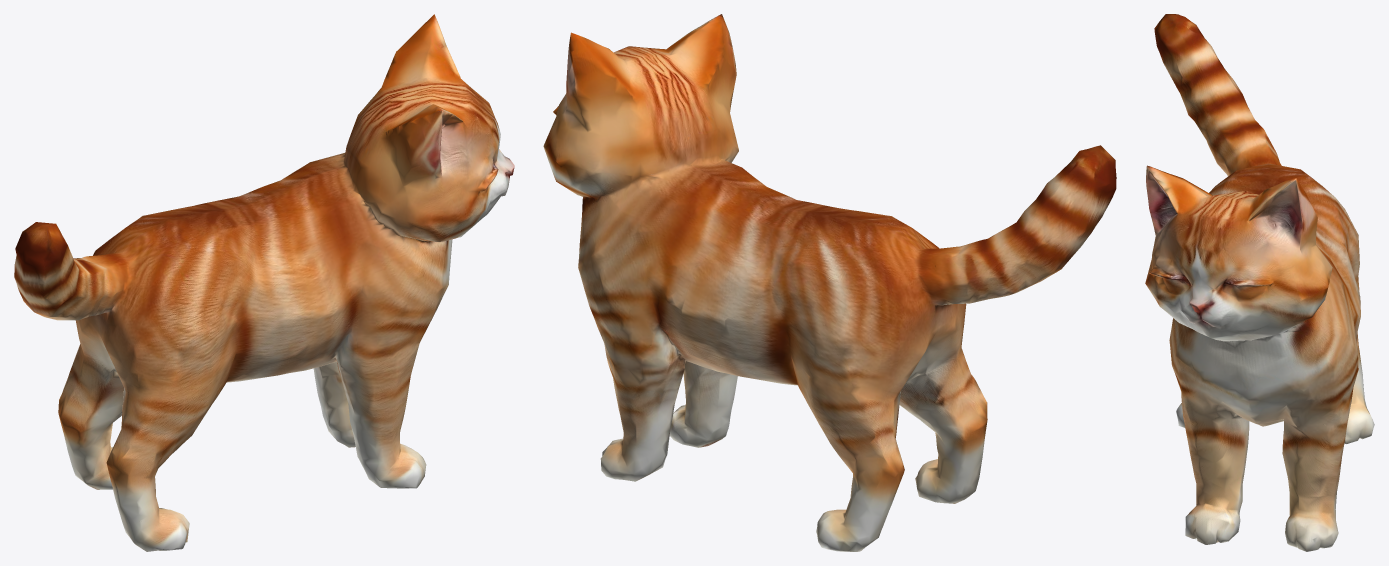
The model's file is LATCHKEY.glb.
The picture shows the model from 3 angles, left to right: view 1: azimuth 30°, elevation 25°; view 2: azimuth 150°, elevation 25°; view 3: azimuth 270°, elevation 25°; orthographic projection. The views are drawn at different scales.
Parts seen in each view (by area): view 1: fit; view 2: fit; view 3: fit.
Boxes of the visible parts, <box> form: fit: <box>14,14,514,551</box>; fit: <box>543,14,1116,551</box>; fit: <box>1145,14,1374,551</box>.
Bounding box in the file's own units: 1.28 × 1 × 0.5239.
Materials: 1 (1 with a texture image).
